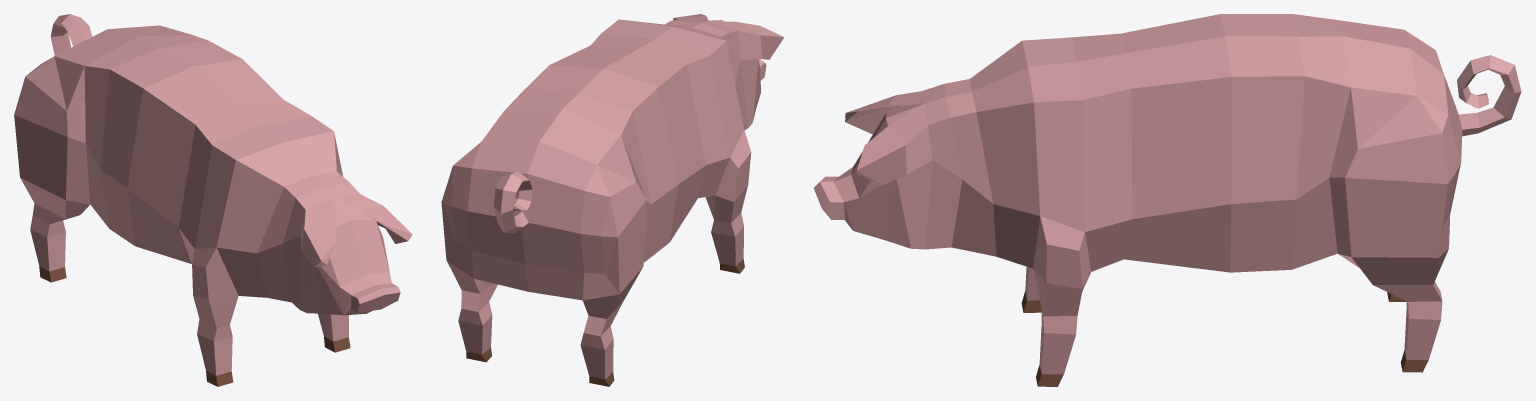
The model's file is pig.fbx.
3 renders of one model, left to right at view 1: azimuth 30°, elevation 25°; view 2: azimuth 150°, elevation 25°; view 3: azimuth 270°, elevation 25°, orthographic. The views are drawn at different scales.
Parts seen in each view (by area): view 1: Pig.002; view 2: Pig.002; view 3: Pig.002.
Boxes of the visible parts, x1,y1,x2,y2 form: Pig.002: (14,14,412,386); Pig.002: (441,14,784,386); Pig.002: (813,14,1521,386).
Size of the model in its own units: 183 by 231 by 491.
